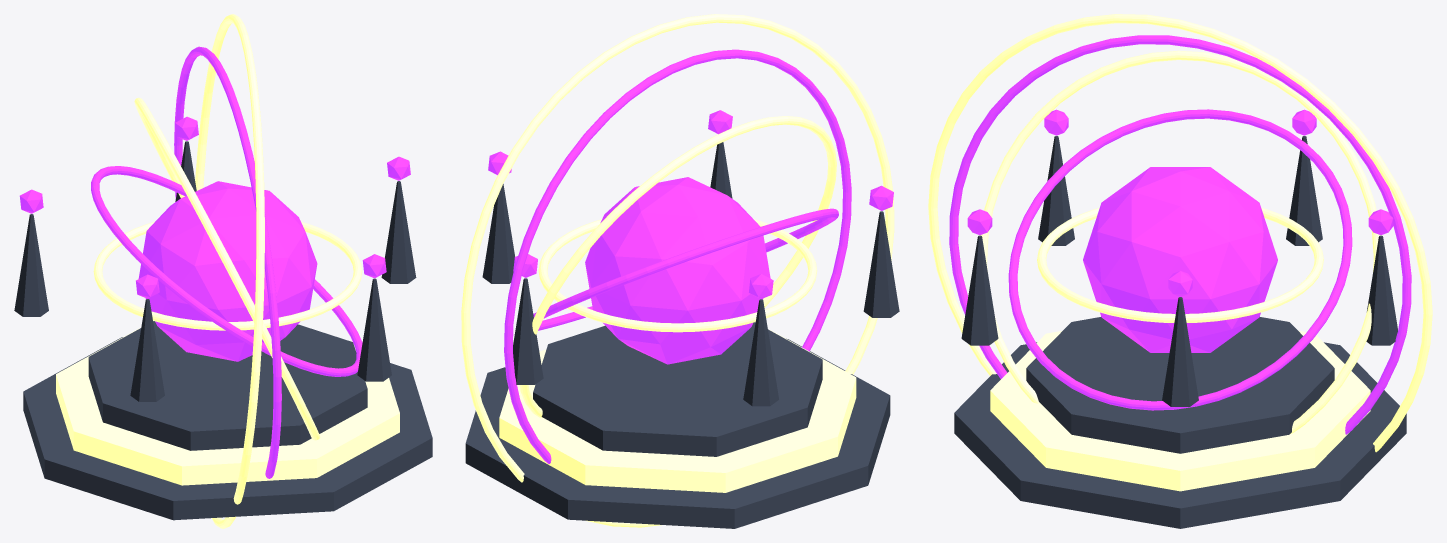
Rendered from gpu-blender-v11.glb.
The picture shows the model from 3 angles, left to right: view 1: azimuth 30°, elevation 25°; view 2: azimuth 150°, elevation 25°; view 3: azimuth 270°, elevation 25°; orthographic projection. The views are drawn at different scales.
Parts seen in each view (by area): view 1: Cylinder.002, Cylinder, SovereignCore_agent-capsule-jail, Cylinder.001, Torus.004, Torus.003, Torus.001, Torus, Torus.002, Cone.004, Cone.002, Cone.003 (+1 smaller); view 2: Cylinder.002, SovereignCore_agent-capsule-jail, Cylinder, Cylinder.001, Torus.004, Torus.003, Torus.002, Torus, Torus.001, Cone.002, Cone.003, Cone (+2 smaller); view 3: SovereignCore_agent-capsule-jail, Cylinder.002, Cylinder, Cylinder.001, Torus.004, Torus.001, Torus.003, Torus.002, Torus, Cone.004, Cone, Cone.001 (+2 smaller).
Part boxes in pixels (x1,y1,x2,y2): Cylinder.002: (88,321,367,450); Cylinder: (23,337,432,520); SovereignCore_agent-capsule-jail: (138,181,317,361); Cylinder.001: (56,328,399,485); Torus.004: (195,14,264,528); Torus.003: (174,46,281,478); Torus.001: (91,166,362,376); Torus: (93,221,362,330); Torus.002: (134,97,320,440); Cone.004: (357,278,391,381); Cone.002: (14,214,48,316); Cone.003: (130,299,164,401); Cylinder.002: (533,322,822,456); SovereignCore_agent-capsule-jail: (585,177,770,364); Cylinder: (465,338,890,528); Cylinder.001: (499,330,856,492); Torus.004: (461,14,894,527); Torus.003: (504,49,851,463); Torus.002: (519,116,836,417); Torus: (538,219,817,332); Torus.001: (533,208,838,330); Cone.002: (743,299,778,406); Cone.003: (863,211,899,317); Cone: (482,184,514,283); SovereignCore_agent-capsule-jail: (1083,167,1277,352); Cylinder.002: (1026,317,1334,453); Cylinder: (954,342,1406,528); Cylinder.001: (990,330,1370,491); Torus.004: (928,14,1432,452); Torus.001: (1008,109,1352,410); Torus.003: (949,35,1411,434); Torus.002: (980,50,1380,433); Torus: (1037,207,1323,322); Cone.004: (961,235,998,345); Cone: (1162,297,1198,406); Cone.001: (1366,235,1397,345).
Size of the model in its own units: 4.41 by 5.33 by 4.9.
